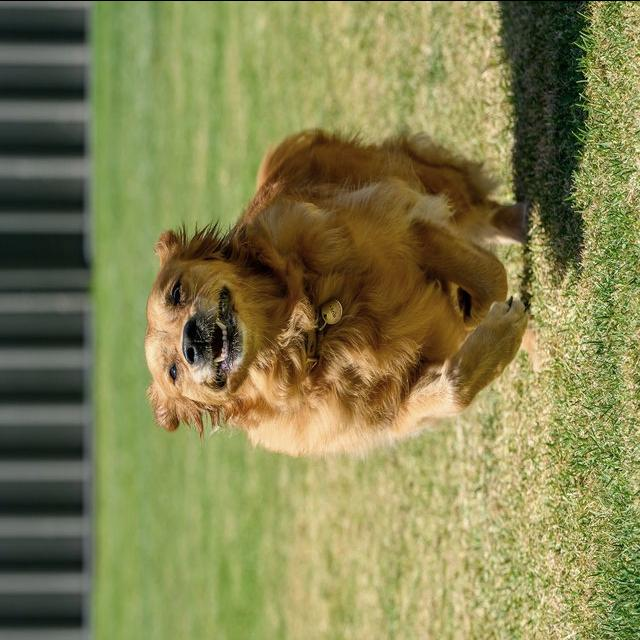retriever: (141, 126, 536, 459)
